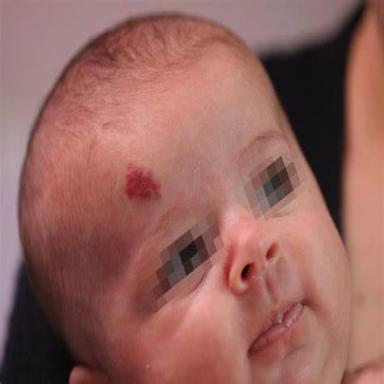Hemangiome: (125, 164, 161, 200)
